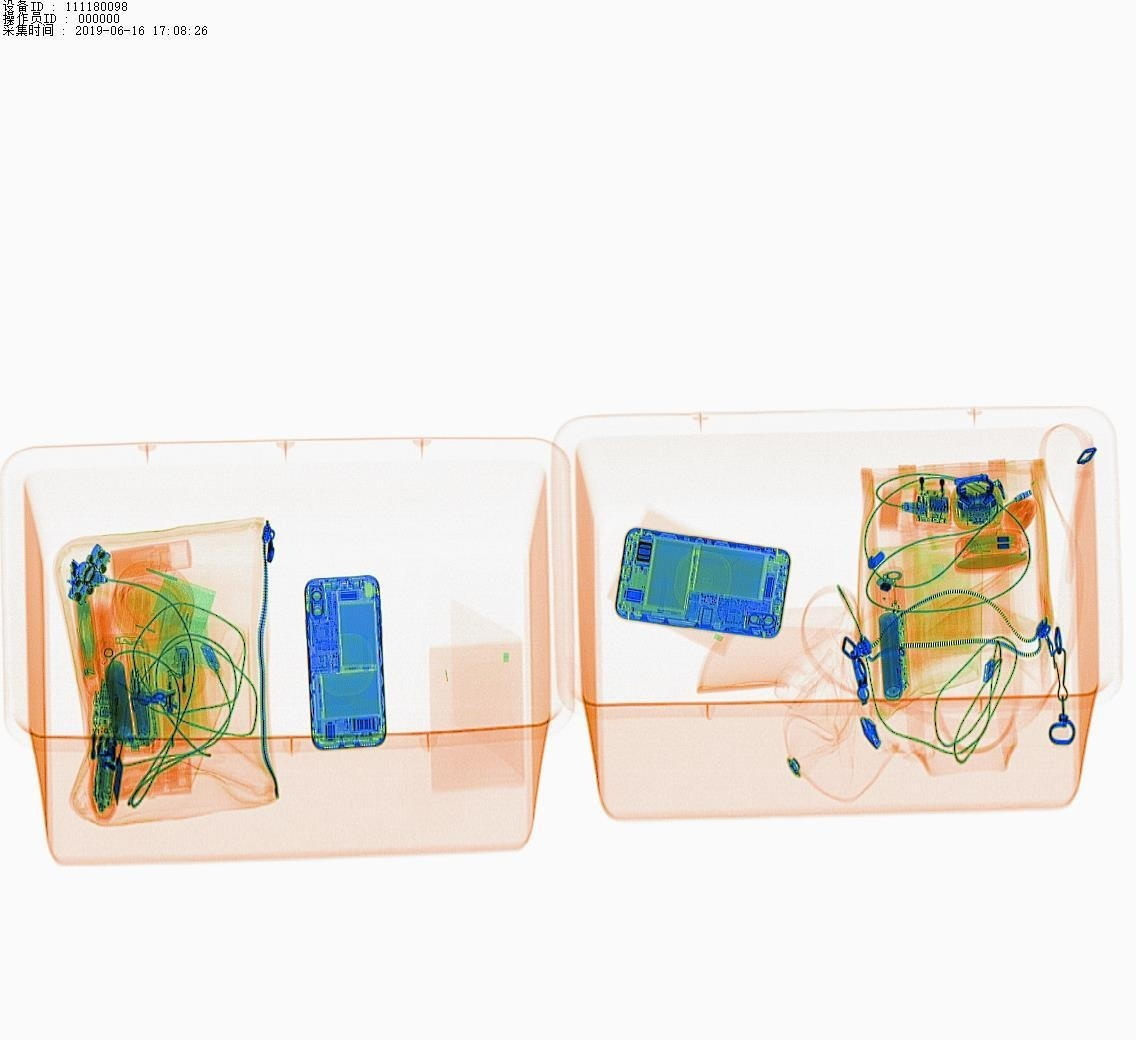NonmetallicFire: (158, 635, 208, 747)
